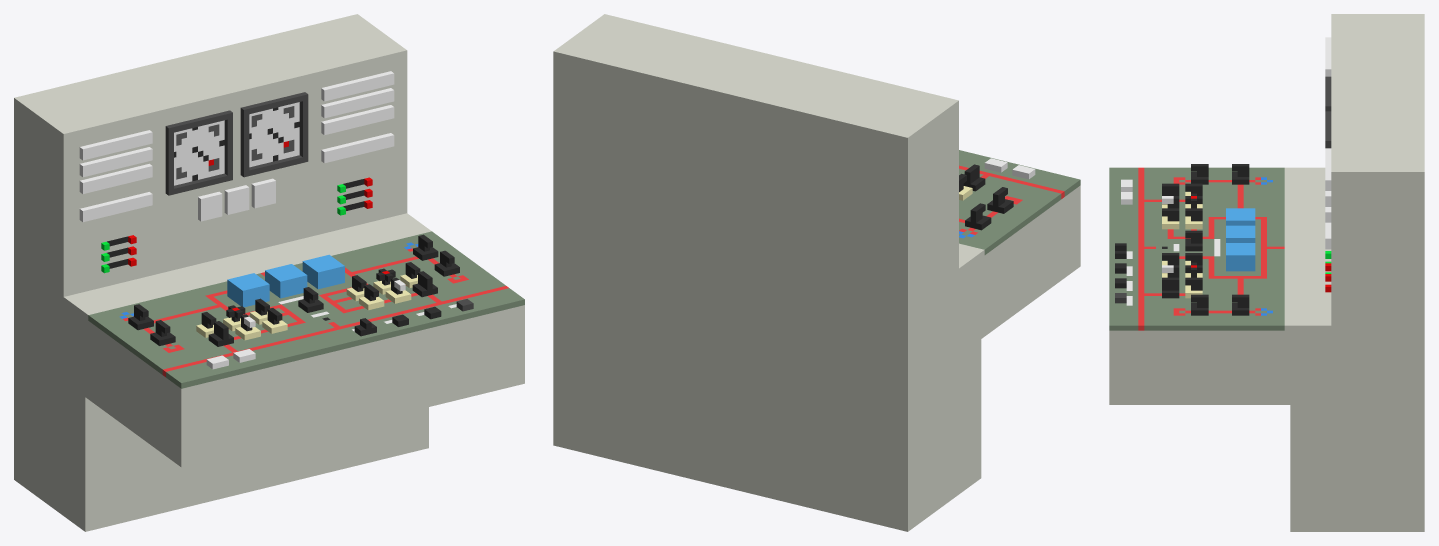
Rendered from Control Panel4-1.fbx.
The picture shows the model from 3 angles, left to right: view 1: azimuth 30°, elevation 25°; view 2: azimuth 150°, elevation 25°; view 3: azimuth 270°, elevation 25°; orthographic projection. The views are drawn at different scales.
Parts seen in each view (by area): view 1: Control Panel4-1.003, Control Panel4-1.002, Control Panel4-1.001, Control Panel4-1.014, Control Panel4-1.009, Control Panel4-1.012, Control Panel4-1.011, Control Panel4-1.010, Control Panel4-1.013; view 2: Control Panel4-1.003, Control Panel4-1.001, Control Panel4-1.002; view 3: Control Panel4-1.002, Control Panel4-1.003, Control Panel4-1.001, Control Panel4-1.014, Control Panel4-1.009, Control Panel4-1.012.
Boxes of the visible parts, x1,y1,x2,y2 form: Control Panel4-1.003: (14, 14, 407, 325); Control Panel4-1.002: (57, 213, 524, 467); Control Panel4-1.001: (14, 304, 428, 531); Control Panel4-1.014: (302, 254, 344, 289); Control Panel4-1.009: (227, 273, 269, 307); Control Panel4-1.012: (265, 264, 307, 298); Control Panel4-1.011: (224, 185, 249, 214); Control Panel4-1.010: (198, 191, 222, 221); Control Panel4-1.013: (251, 178, 275, 208); Control Panel4-1.003: (553, 14, 958, 357); Control Panel4-1.001: (553, 266, 987, 531); Control Panel4-1.002: (954, 150, 1080, 338); Control Panel4-1.002: (1109, 164, 1342, 404); Control Panel4-1.003: (1325, 14, 1424, 373); Control Panel4-1.001: (1278, 330, 1424, 531); Control Panel4-1.014: (1226, 243, 1255, 271); Control Panel4-1.009: (1226, 208, 1255, 225); Control Panel4-1.012: (1226, 225, 1255, 242).
Bounding box in the file's own units: 6.4 × 6.8 × 5.4.
